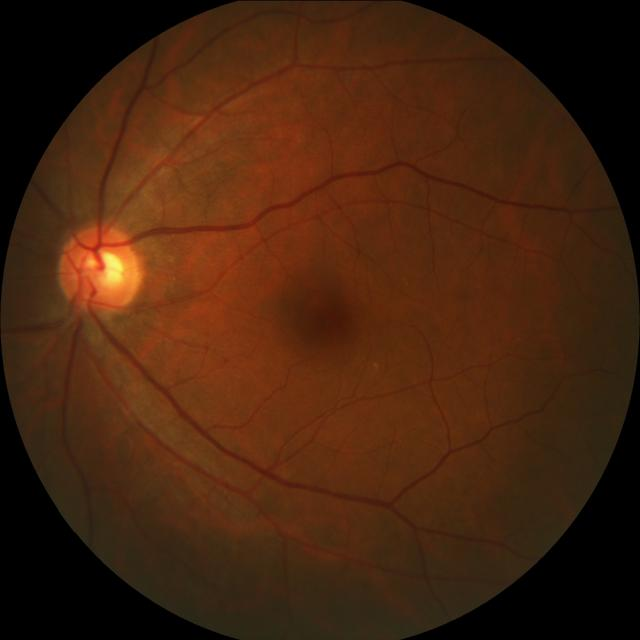OC: (80, 248, 126, 292)
OD: (60, 222, 144, 314)
